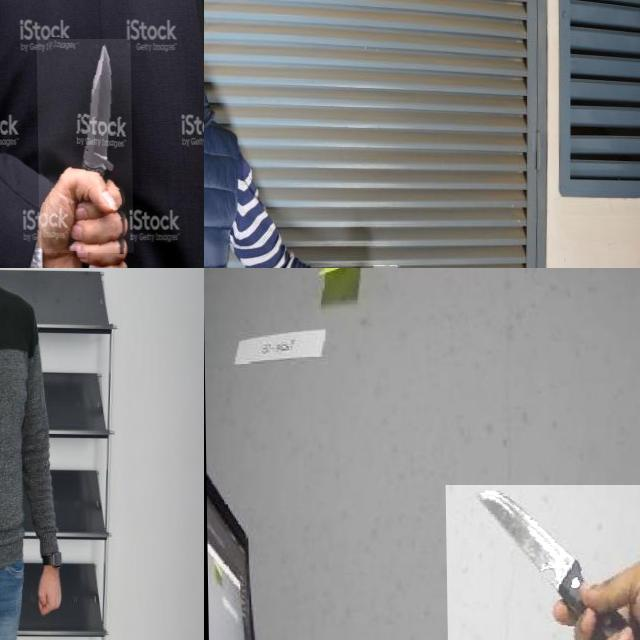-: (444, 485, 640, 640), (36, 39, 132, 253), (0, 92, 29, 160), (0, 0, 18, 59), (83, 0, 107, 32)
